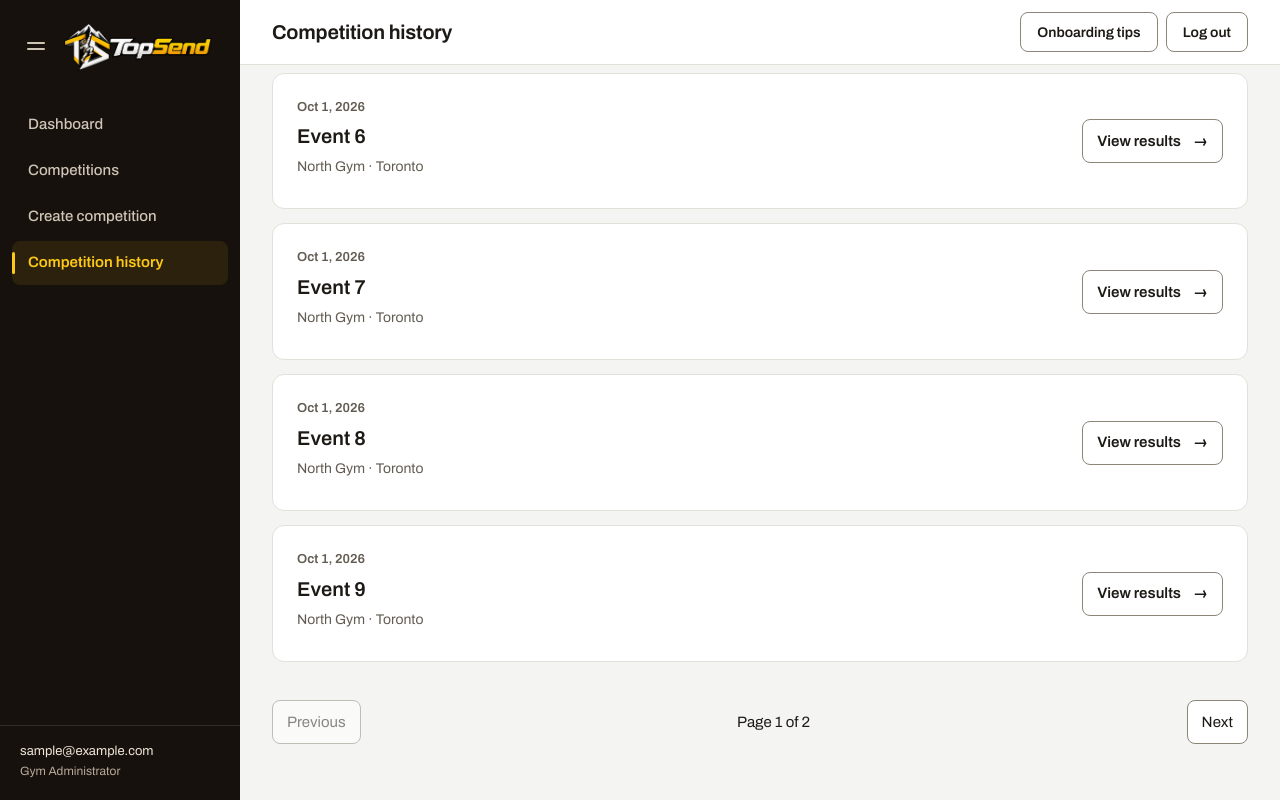
Test: paginates the history list and does not lose the selected gym on navigation
(page scrolled)
Click the button "Next": (1217, 722) [1187, 700, 1248, 744]
(page scrolled)
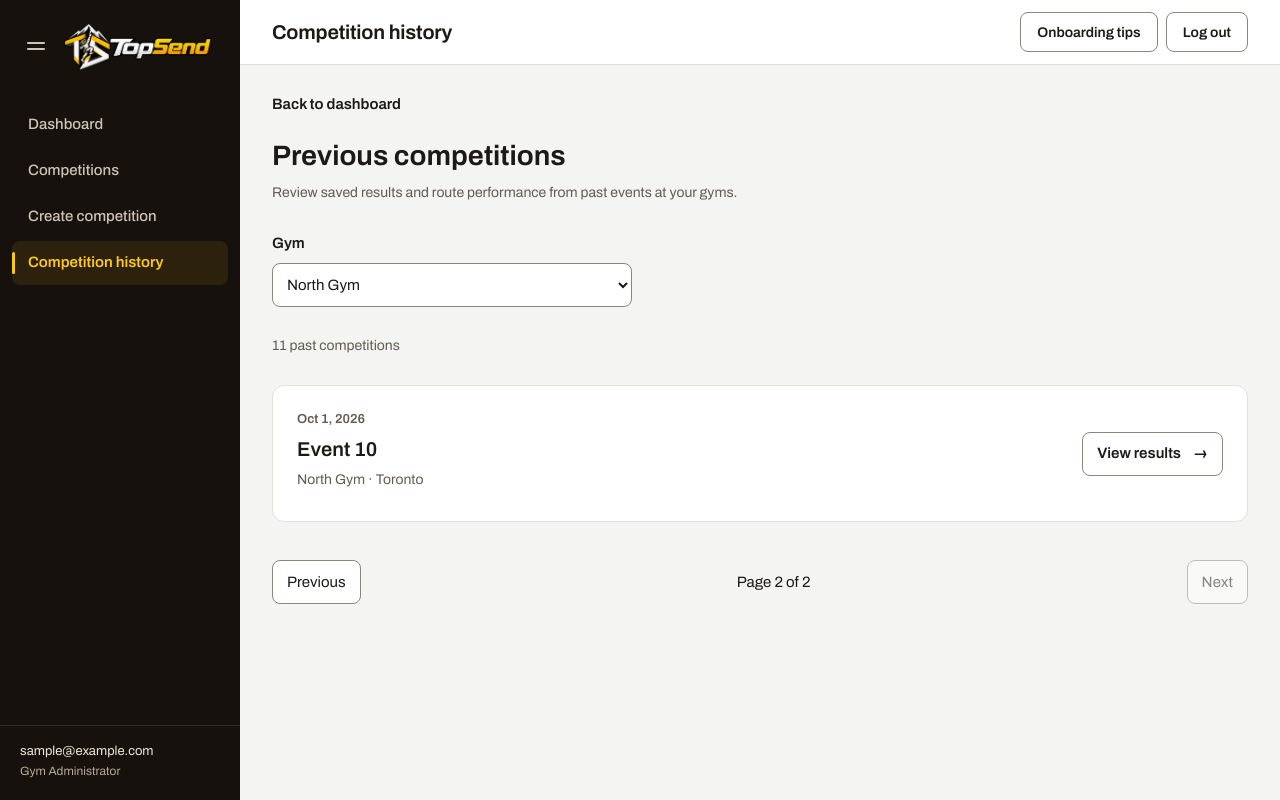
Expected: the number of links named "View history for" is 1, [1082, 432, 1223, 476]
